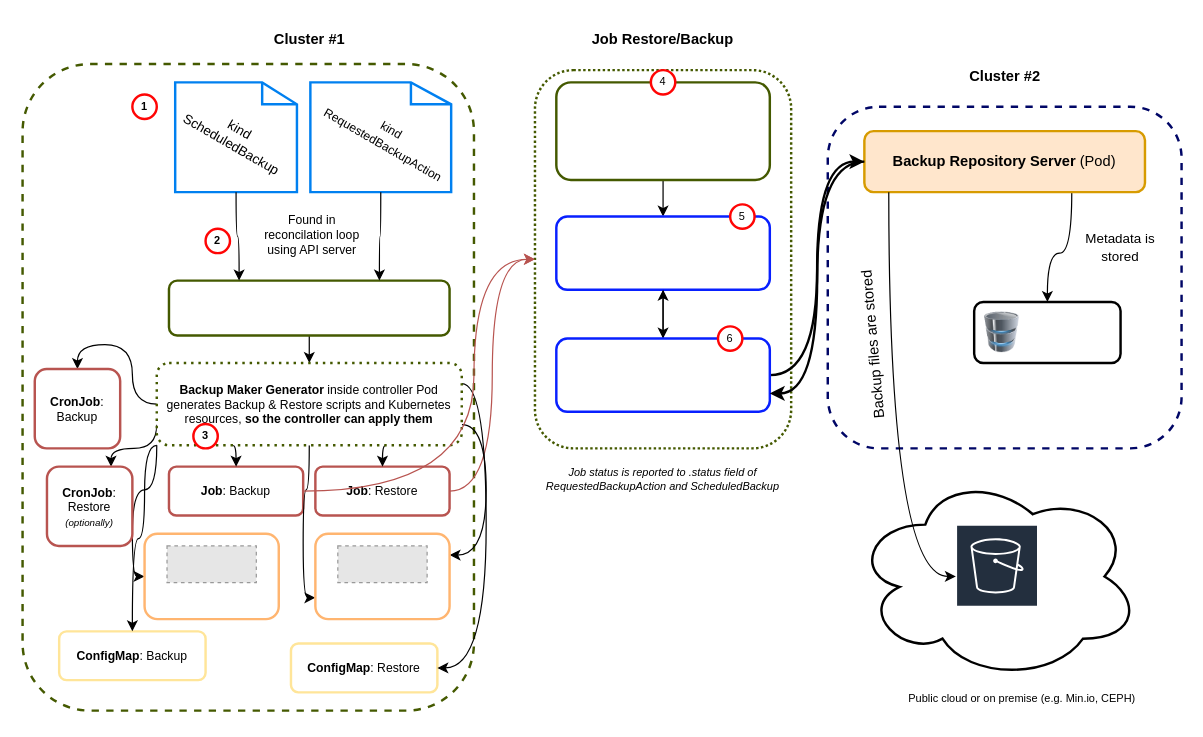
The diagram is 1203 pixels wide and 737 high, and some of its shapes have lost their labels. Grey dashed boxes stand in for pictures. Here are the shapes that lost their labels. From the top down, the box of each, then its label:
(554, 81, 770, 181): Script from ConfigMap (generated by controller using Backup Maker Generator)
(554, 215, 770, 290): mysqldump/pgdump or other process to dump or restore data
(167, 279, 450, 336): Backup Maker Controller (Pod)
(972, 300, 1121, 364): PostgreSQL
(554, 337, 770, 412): backup-maker client uploads or downloads a backup
(143, 532, 279, 620): Secret : Backup
(314, 532, 450, 620): Secret : Restore
(954, 523, 1039, 629): Amazon S3
